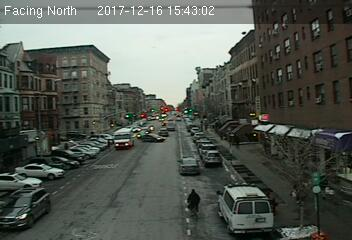bicycle: (185, 188, 202, 224)
car: (1, 182, 51, 226), (177, 157, 199, 174), (203, 151, 223, 166)
police: (213, 181, 274, 236)
truck: (113, 127, 134, 148)
